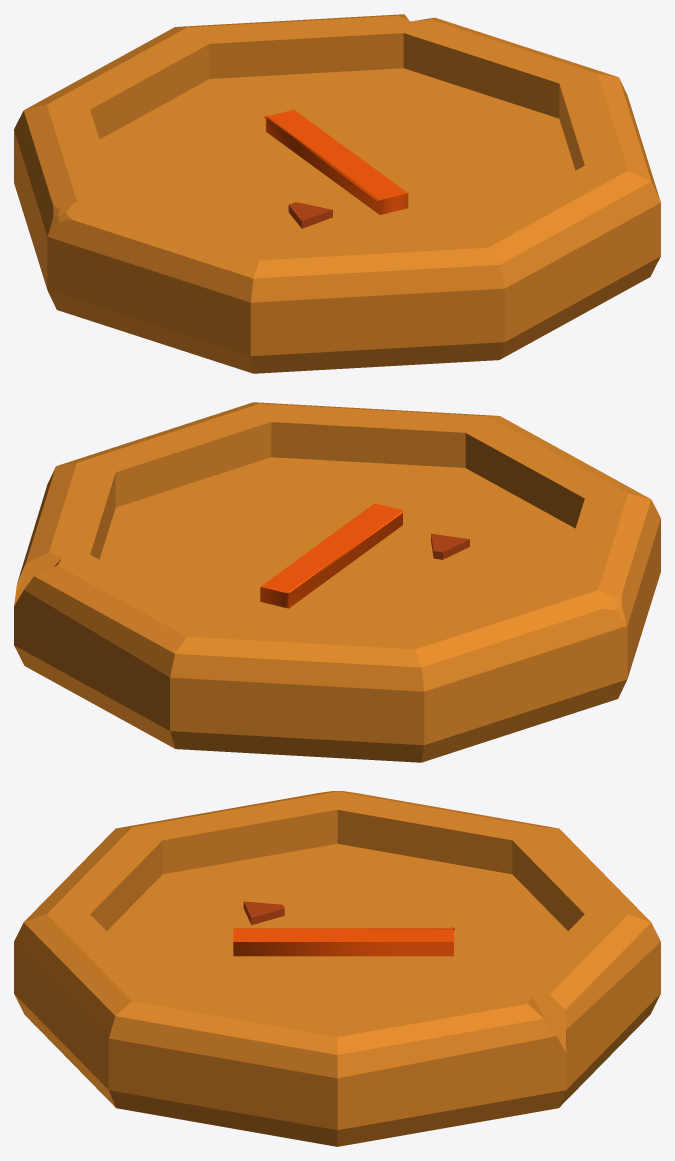
Rendered from bronzeCoin.glb.
3 renders of one model, top to bottom at view 1: azimuth 30°, elevation 25°; view 2: azimuth 150°, elevation 25°; view 3: azimuth 270°, elevation 25°, orthographic. The views are drawn at different scales.
Parts seen in each view (by area): view 1: Cylinder, Text; view 2: Cylinder, Text; view 3: Cylinder, Text.
Part boxes in pixels (x1,y1,x2,y2): Cylinder: (14, 14, 660, 373); Text: (264, 110, 408, 214); Cylinder: (14, 402, 660, 762); Text: (260, 503, 404, 608); Cylinder: (14, 791, 660, 1146); Text: (233, 927, 454, 956).
Bounding box in the file's own units: 2 × 0.3722 × 2.
